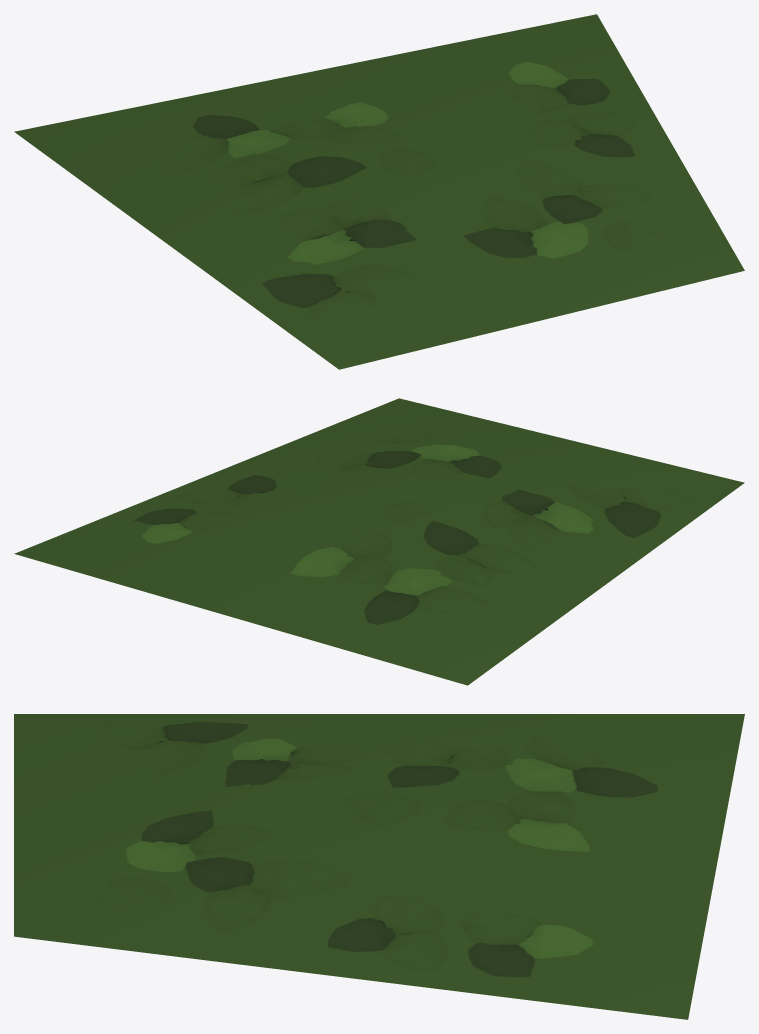
Rendered from SM_Env_Leaves_02.fbx.
3 views of the same model, one above another, from view 1: azimuth 30°, elevation 25°; view 2: azimuth 150°, elevation 25°; view 3: azimuth 270°, elevation 25° (orthographic). The views are drawn at different scales.
Visible parts, largest first — view 1: SM_Env_Leaves_02_LOD0; view 2: SM_Env_Leaves_02_LOD0; view 3: SM_Env_Leaves_02_LOD0.
Part boxes in pixels (x1,y1,x2,y2): SM_Env_Leaves_02_LOD0: (14,14,744,369); SM_Env_Leaves_02_LOD0: (14,398,744,685); SM_Env_Leaves_02_LOD0: (14,714,744,1019).
Bounding box in the file's own units: 127 × 7.27 × 128.
